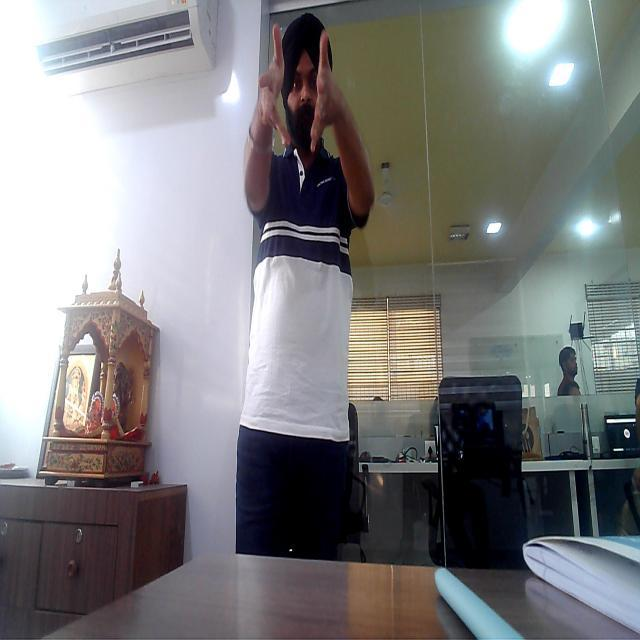without_gloves: (297, 32, 358, 157), (248, 20, 297, 150)
